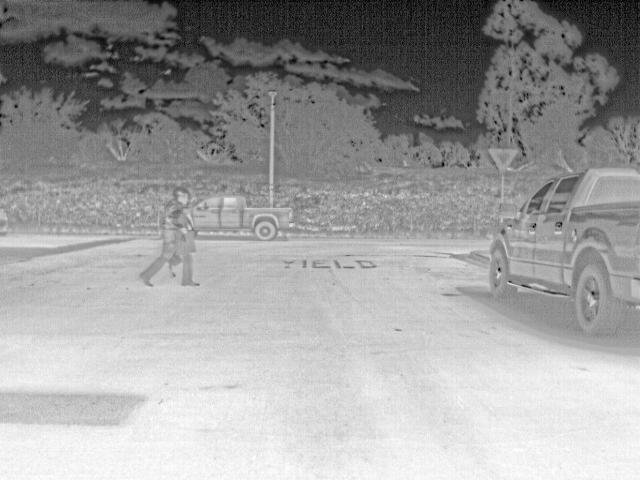car: (489, 167, 639, 334), (191, 192, 295, 243)
person: (138, 185, 196, 286)
